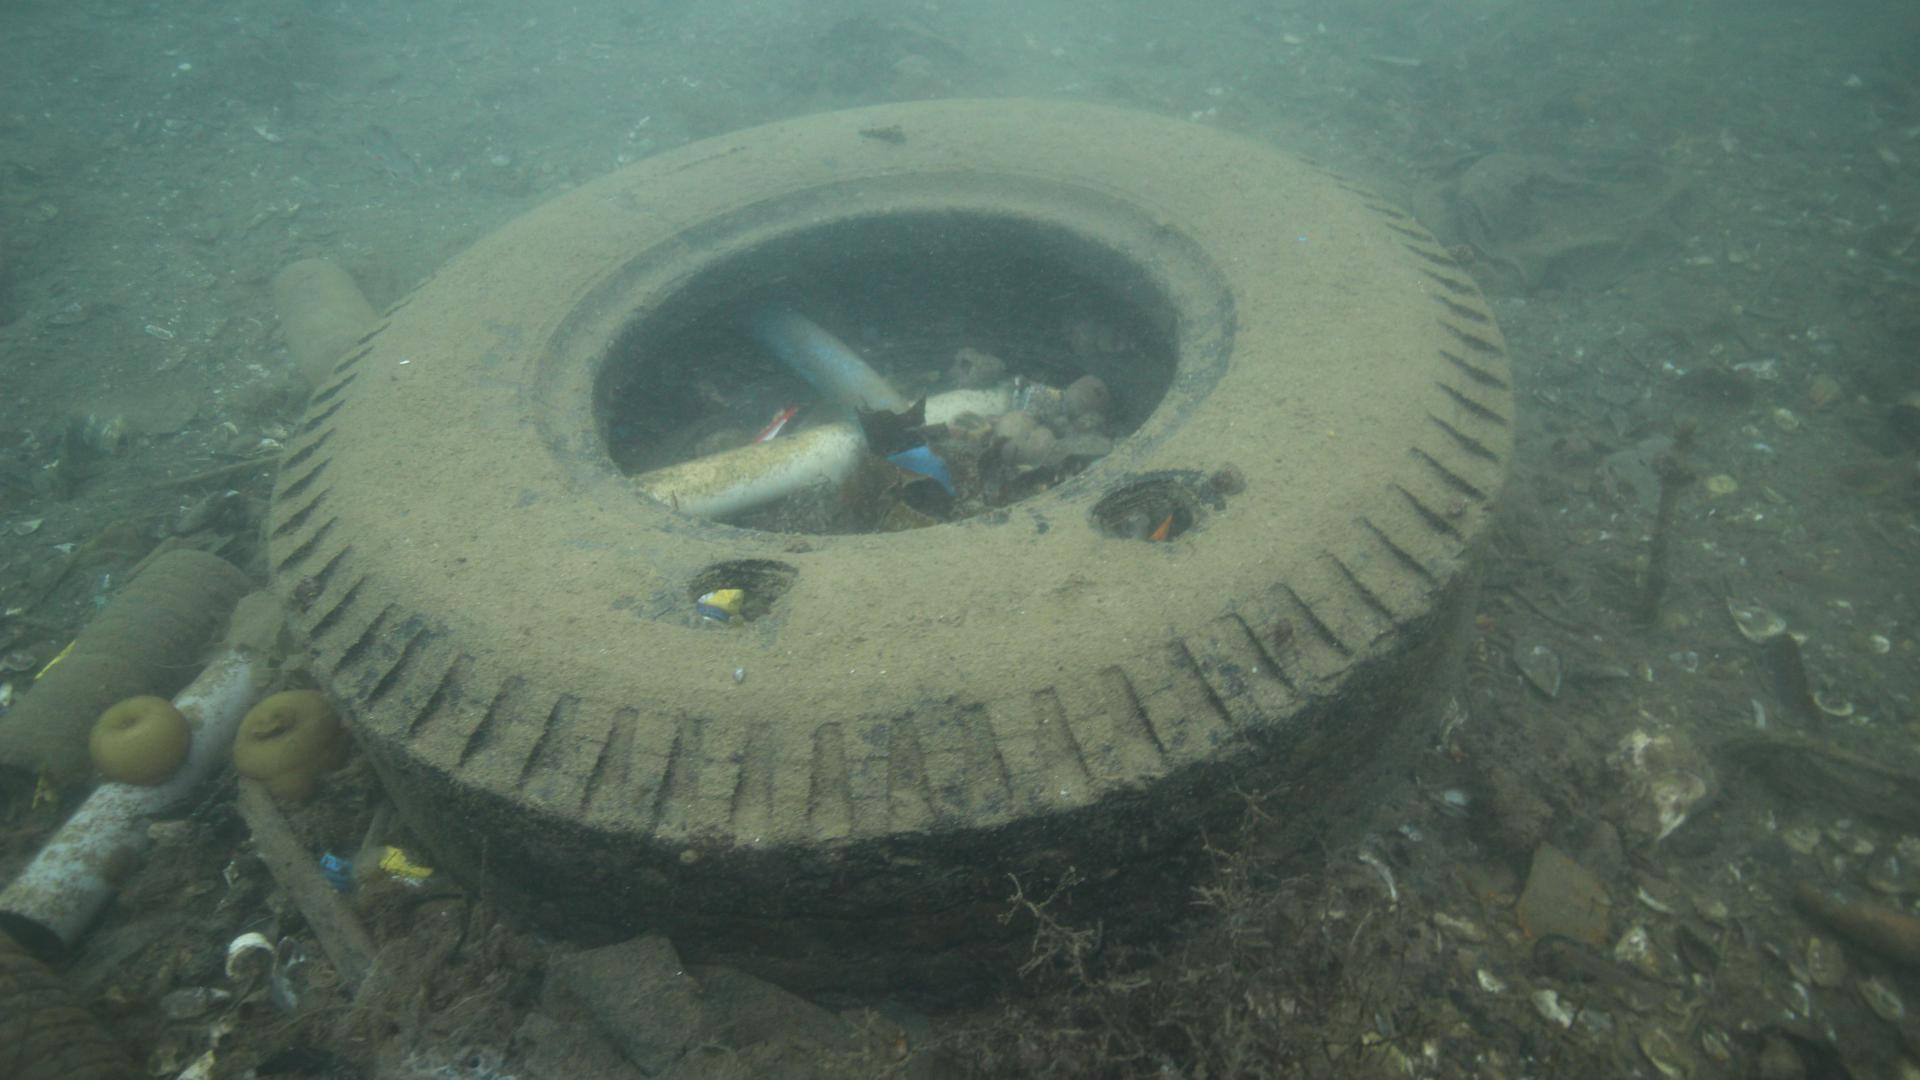tire: (266, 94, 1516, 1015)
